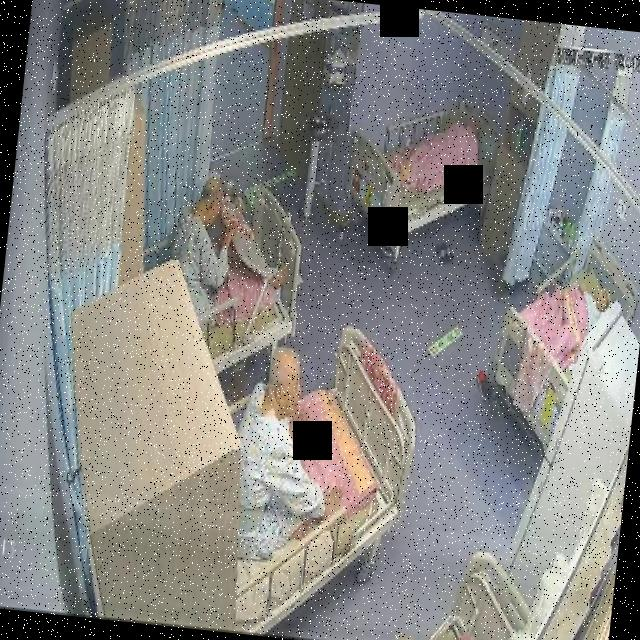bed: (199, 317, 426, 640), (481, 229, 640, 457), (156, 184, 306, 380), (344, 85, 502, 258)
patient: (214, 341, 326, 569), (160, 166, 296, 336)
sit: (213, 340, 354, 570), (162, 166, 296, 336)
